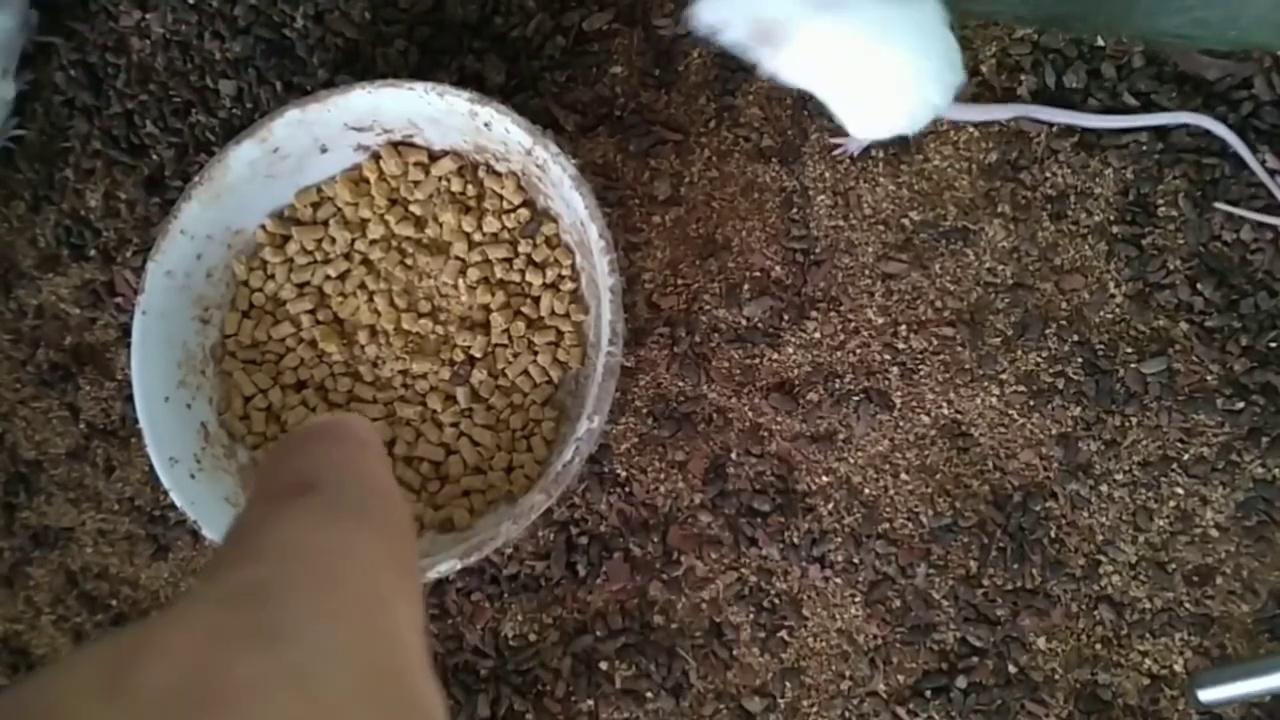rat: (686, 0, 1280, 200)
